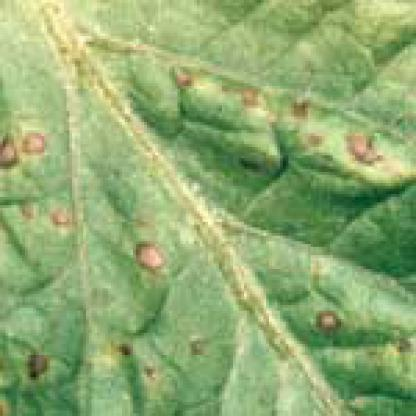tomato mold leaf: (6, 6, 413, 413)
